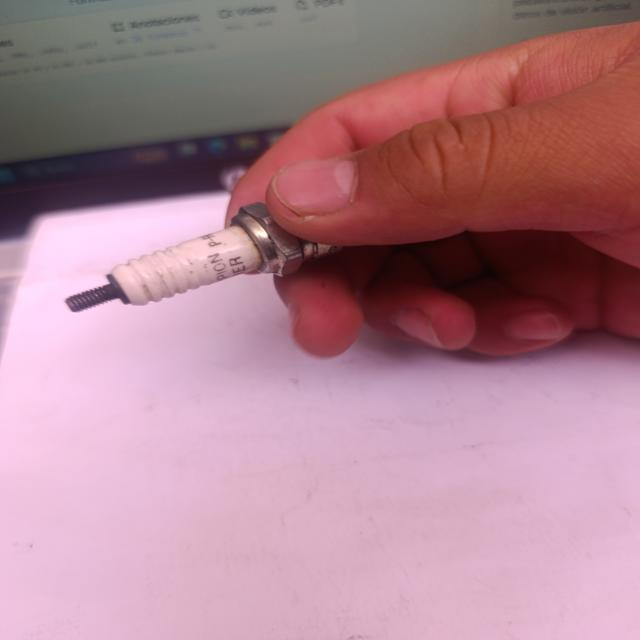bujia: (66, 228, 264, 312)
